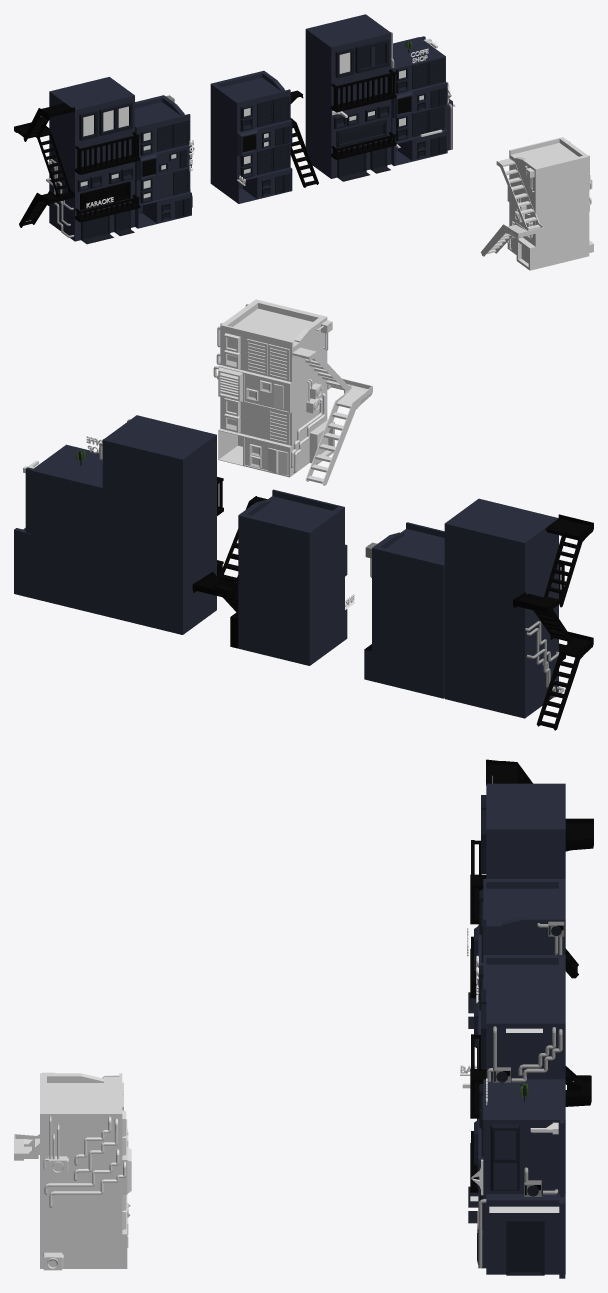
The model's file is binalar.fbx.
3 views of the same model, one above another, from view 1: azimuth 30°, elevation 25°; view 2: azimuth 150°, elevation 25°; view 3: azimuth 270°, elevation 25° (orthographic). The views are drawn at different scales.
Parts seen in each view (by area): view 1: Cube.031, Cube.001, Cube.057, Cube.041, Cube.015, Cube.033, Cube.014, Cube, Cube.012, Cube.060, Cube.052, Cube.017 (+3 smaller); view 2: Cube.031, Cube.001, Cube, Cube.015, Cube.014, Cube.012, Cube.016, Cube.017, Plane.029, Plane.020; view 3: Cube.031, Cube.001, Cube.015, Cube.014, Cube, Cube.041, Cube.012, Cube.033, Plane.008, Plane.032, Cube.057.
Boxes of the visible parts, x1,y1,x2,y2 form: Cube.031: (49,70,292,241); Cube.001: (305,14,447,131); Cube.057: (77,96,290,220); Cube.041: (334,39,445,158); Cube.015: (507,137,589,221); Cube.033: (75,69,396,222); Cube.014: (507,202,589,270); Cube: (305,99,452,178); Cube.012: (14,90,318,227); Cube.060: (81,148,390,244); Cube.052: (80,134,256,210); Cube.017: (496,158,543,230); Cube.031: (238,489,558,718); Cube.001: (25,415,216,571); Cube: (14,528,216,634); Cube.015: (218,299,327,413); Cube.014: (218,386,334,477); Cube.012: (192,496,593,730); Cube.016: (305,378,372,485); Cube.017: (292,347,351,393); Plane.029: (370,543,564,697); Plane.020: (290,393,325,472); Cube.031: (474,783,565,1118); Cube.001: (474,978,565,1197); Cube.015: (40,1073,131,1194); Cube.014: (40,1194,128,1268); Cube: (478,1194,565,1278); Cube.041: (477,989,544,1275); Cube.012: (486,759,593,1106); Cube.033: (470,840,486,1192); Plane.008: (478,1026,562,1268); Plane.032: (44,1116,126,1207); Cube.057: (477,795,486,1120).
Bounding box in the file's own units: 3405 × 1070 × 2689.
